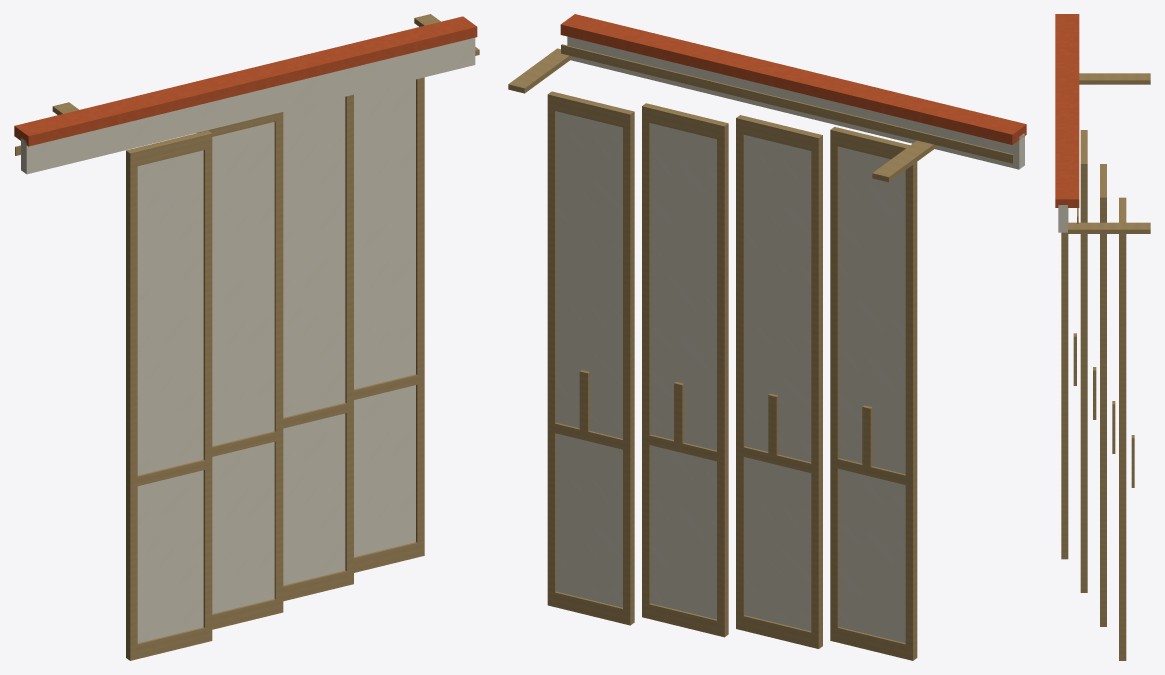
File: living_service_left_r002.glb
3 renders of one model, left to right at view 1: azimuth 30°, elevation 25°; view 2: azimuth 150°, elevation 25°; view 3: azimuth 270°, elevation 25°, orthographic. The views are drawn at different scales.
Parts seen in each view (by area): view 1: Panel_L0_field, Panel_L1_field, Panel_R1_field, Panel_R0_field, track_back, track_cap, Panel_L0_stile_left, Panel_L0_stile_right, Panel_L1_stile_right, Panel_R1_stile_right, Panel_R0_stile_right, Panel_L0_top_rail (+8 smaller); view 2: Panel_L1_field, Panel_R0_field, Panel_R1_field, Panel_L0_field, track_cap, track_back, Panel_L0_stile_left, Panel_L1_stile_left, Panel_R0_stile_left, Panel_R1_stile_left, Panel_R0_stile_right, track_brass (+17 smaller); view 3: track_cap, Panel_R0_stile_right, Panel_L1_stile_right, Panel_R1_stile_right, Panel_L0_stile_right, track_wall_mount_1.1, track_wall_mount_-1.1, track_back, Panel_L1_top_rail, Panel_L0_handle, Panel_L1_handle, Panel_R0_handle (+3 smaller).
Boxes of the visible parts, x1,y1,x2,y2 form: Panel_L0_field: (137,150,203,642); Panel_L1_field: (212,122,274,613); Panel_R1_field: (283,97,345,585); Panel_R0_field: (354,79,415,556); track_back: (21,37,475,174); track_cap: (14,16,477,146); Panel_L0_stile_left: (126,148,137,660); Panel_L0_stile_right: (201,130,212,642); Panel_L1_stile_right: (274,112,283,614); Panel_R1_stile_right: (345,94,353,585); Panel_R0_stile_right: (416,77,424,557); Panel_L0_top_rail: (134,132,204,165); Panel_L1_field: (744,135,811,631); Panel_R0_field: (556,111,622,607); Panel_R1_field: (650,123,716,619); Panel_L0_field: (839,146,905,642); track_cap: (560,14,1026,144); track_back: (567,36,1024,169); Panel_L0_stile_left: (905,145,917,660); Panel_L1_stile_left: (811,133,822,648); Panel_R0_stile_left: (623,110,634,625); Panel_R1_stile_left: (717,121,728,637); Panel_R0_stile_right: (547,91,558,606); track_brass: (561,44,1013,163); track_cap: (1055,14,1079,207); Panel_R0_stile_right: (1119,234,1126,660); Panel_L1_stile_right: (1080,160,1087,592); Panel_R1_stile_right: (1100,194,1106,626); Panel_L0_stile_right: (1061,208,1068,559); track_wall_mount_1.1: (1068,222,1150,233); track_wall_mount_-1.1: (1079,73,1150,84); track_back: (1058,205,1067,232); Panel_L1_top_rail: (1080,133,1087,160); Panel_L0_handle: (1073,333,1076,385); Panel_L1_handle: (1093,367,1096,419); Panel_R0_handle: (1131,435,1134,487).
Size of the model in its own units: 2.79 by 3.22 by 0.595.
Materials: 3 (3 with a texture image).
